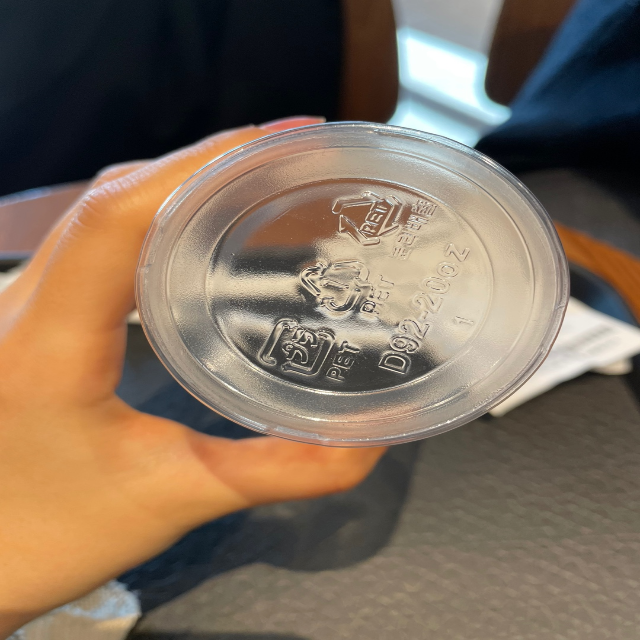pet: (250, 308, 369, 392), (328, 178, 435, 265), (294, 258, 394, 326)
